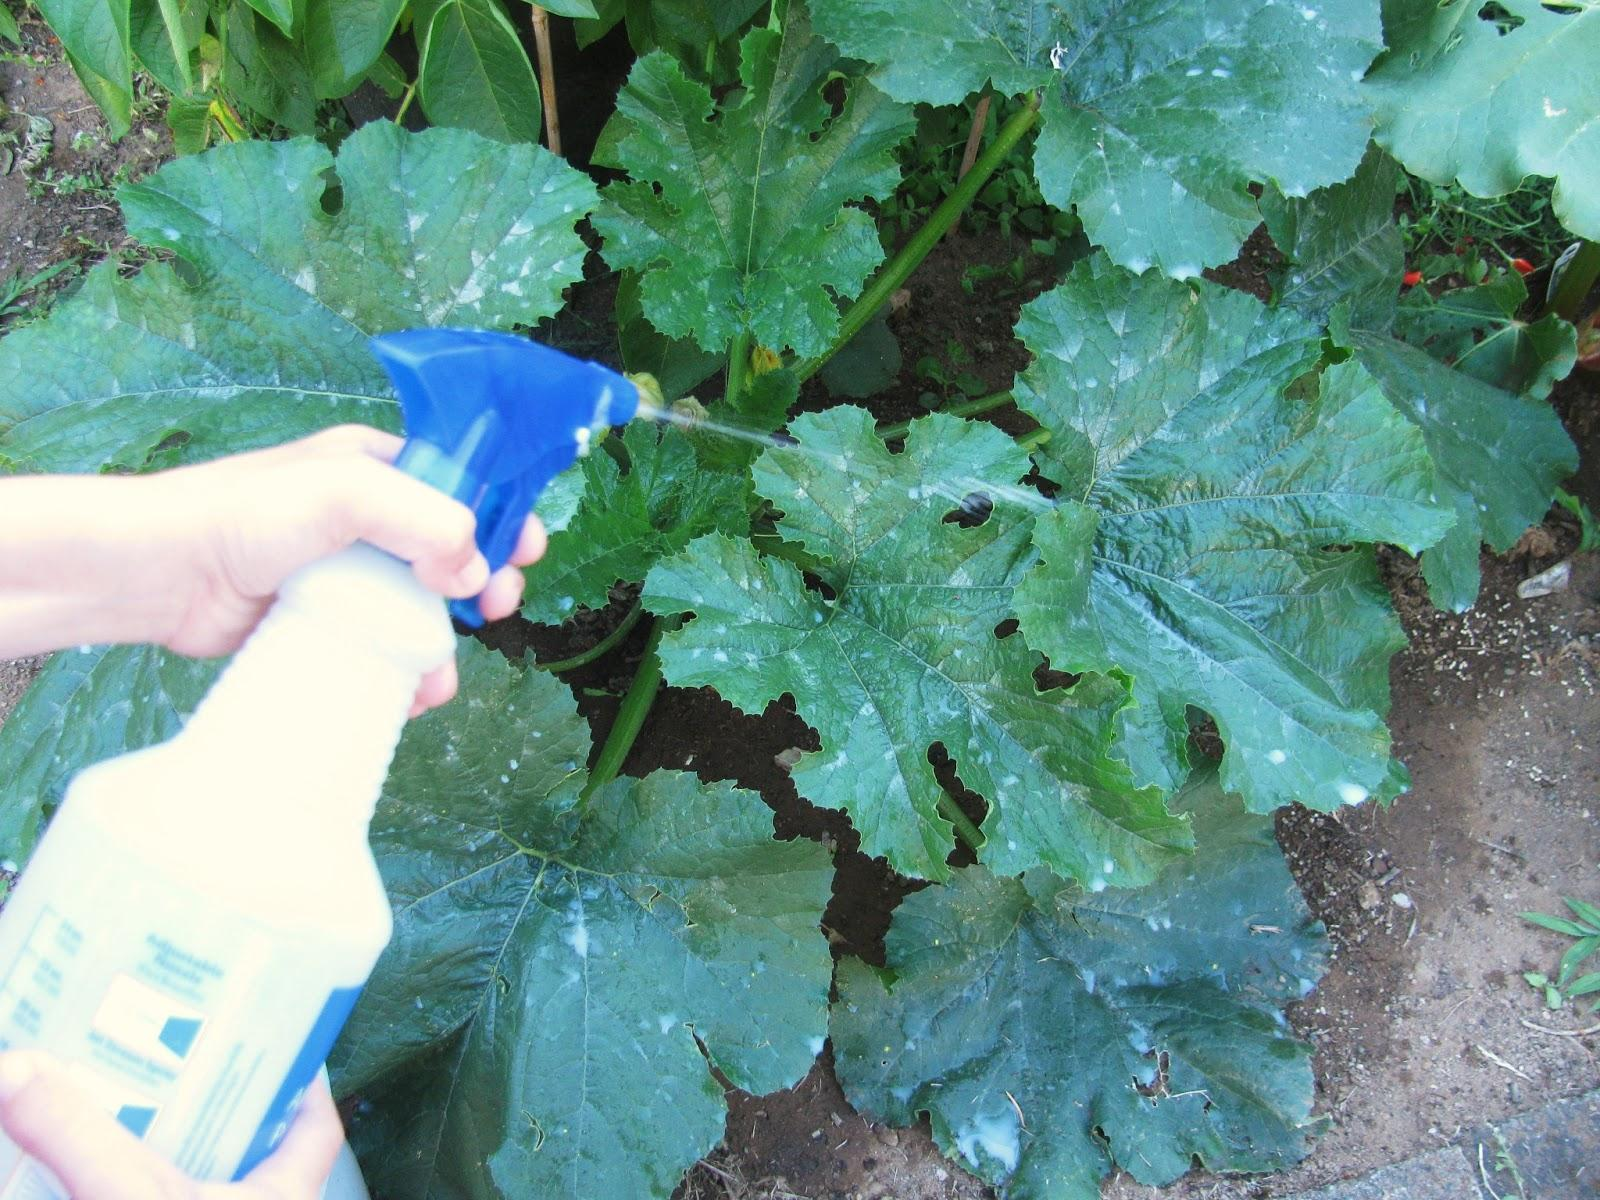Squash Powdery mildew leaf: (666, 402, 1204, 894), (825, 1, 1381, 311), (100, 118, 581, 343), (994, 248, 1198, 471)
